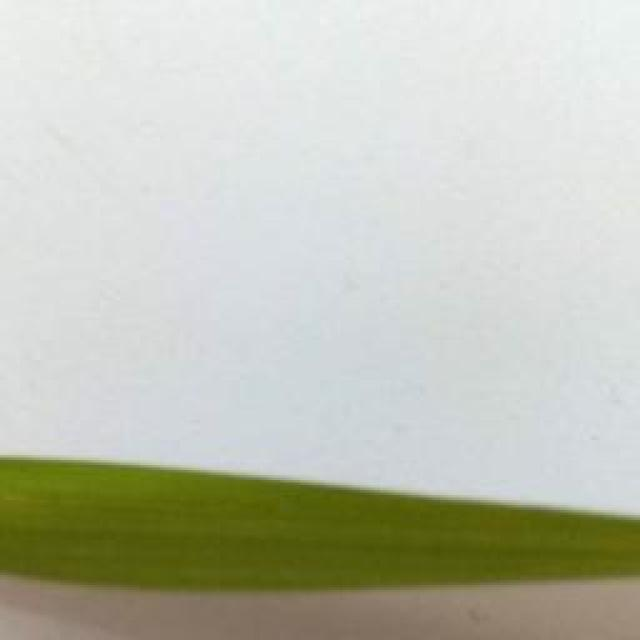Healthy-Plant: (0, 462, 640, 590)
